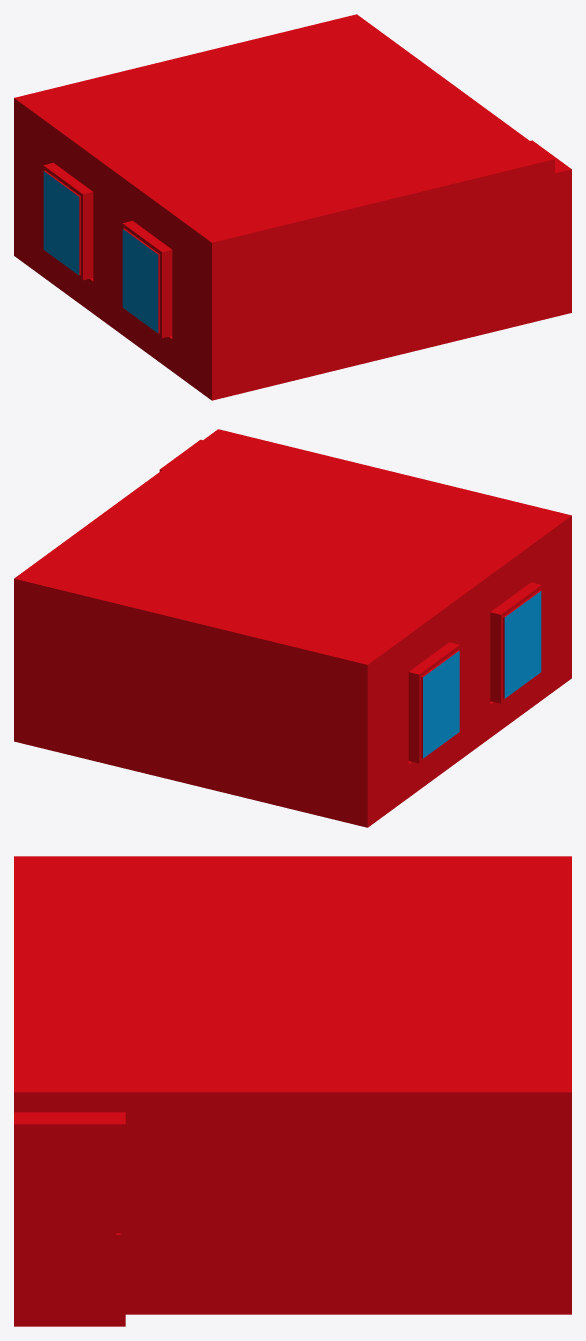
The model's file is MainMenuRoom.fbx.
The picture shows the model from 3 angles, top to bottom: view 1: azimuth 30°, elevation 25°; view 2: azimuth 150°, elevation 25°; view 3: azimuth 270°, elevation 25°; orthographic projection. The views are drawn at different scales.
Visible parts, largest first — view 1: Room; view 2: Room; view 3: Room.
Boxes of the visible parts, box(x1,y1,x2,y2) form: Room: box(14, 14, 571, 400); Room: box(14, 429, 571, 827); Room: box(14, 856, 571, 1326).
Size of the model in its own units: 542 by 220 by 500.
